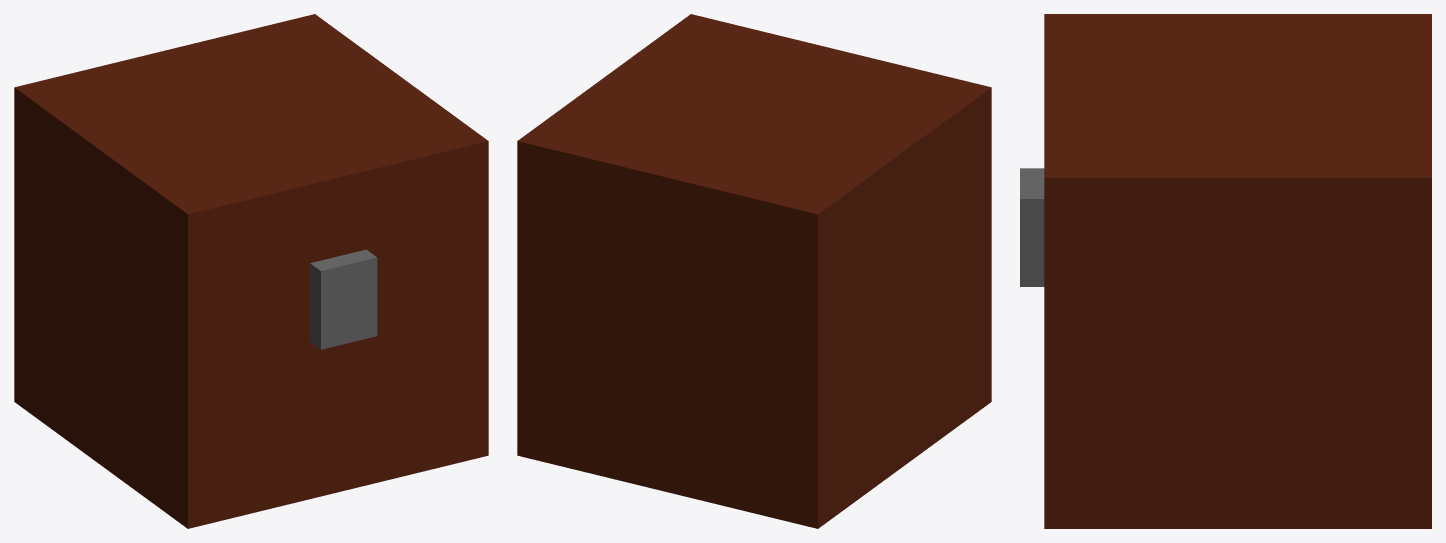
Rendered from storage.obj.
3 views of the same model, side by side, from view 1: azimuth 30°, elevation 25°; view 2: azimuth 150°, elevation 25°; view 3: azimuth 270°, elevation 25° (orthographic). The views are drawn at different scales.
Visible parts, largest first — view 1: chest, lock; view 2: chest; view 3: chest, lock.
Part boxes in pixels (bbox=[...]): chest: bbox=[14, 14, 488, 528]; lock: bbox=[310, 249, 377, 349]; chest: bbox=[517, 14, 991, 528]; chest: bbox=[1044, 14, 1431, 528]; lock: bbox=[1020, 168, 1044, 286].
Size of the model in its own units: 0.8 by 0.8 by 0.85.
